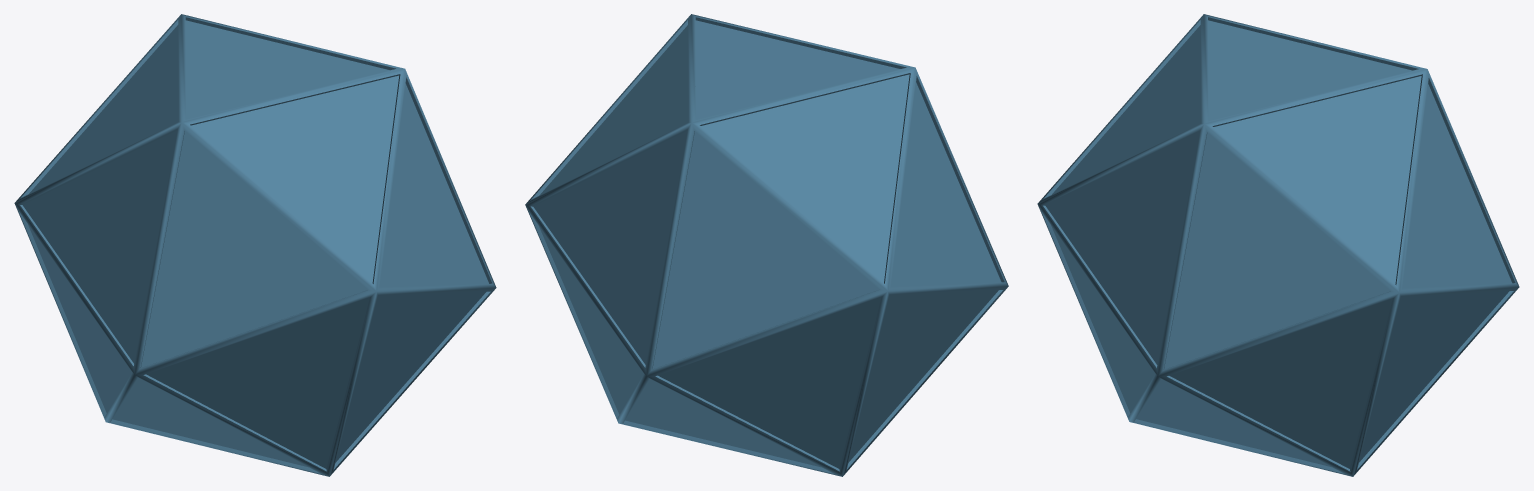
3 views of the same model, side by side, from view 1: azimuth 30°, elevation 25°; view 2: azimuth 150°, elevation 25°; view 3: azimuth 270°, elevation 25° (orthographic).
Visible parts, largest first — view 1: Object_2; view 2: Object_2; view 3: Object_2.
Boxes of the visible parts, box(x1,y1,x2,y2) form: Object_2: box(14, 14, 496, 476); Object_2: box(525, 14, 1008, 476); Object_2: box(1037, 14, 1519, 476).
Size of the model in its own units: 0.8662 by 0.8117 by 1.
